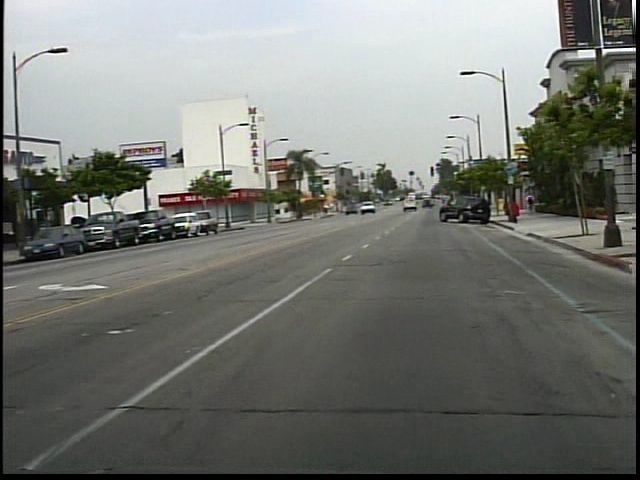person: (528, 188, 542, 218)
